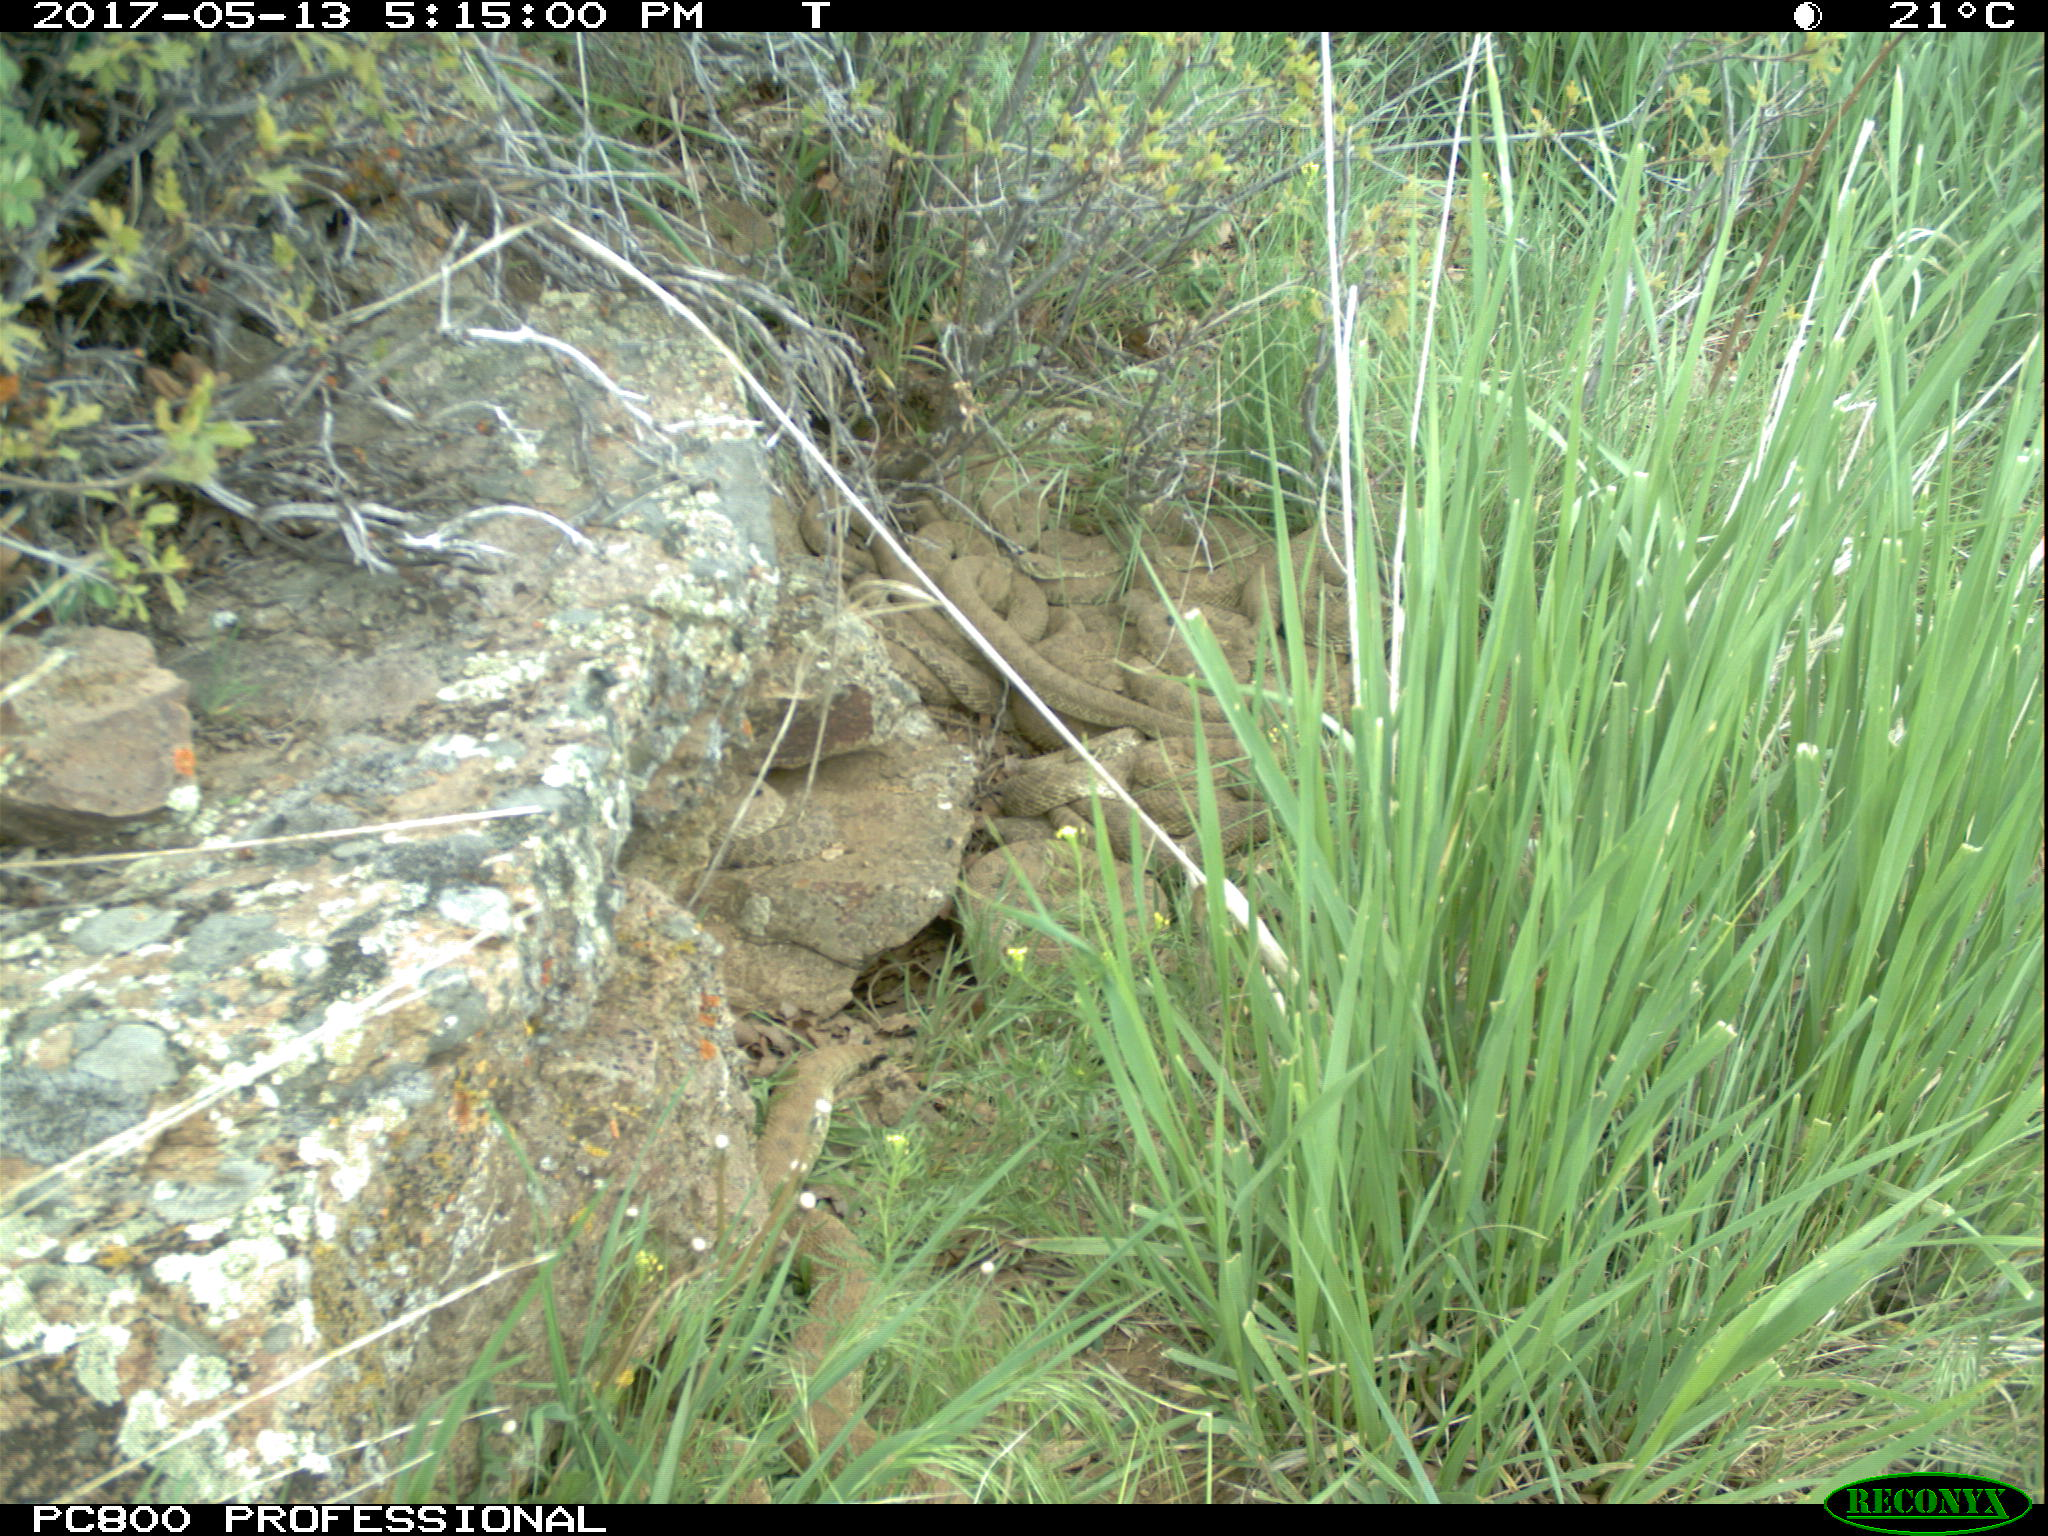snake: (947, 550, 1242, 737), (777, 1212, 887, 1483), (966, 841, 1184, 945), (901, 524, 1053, 657), (753, 1044, 876, 1205), (1095, 771, 1255, 862), (1127, 582, 1256, 694), (1256, 537, 1372, 652), (987, 736, 1129, 818), (698, 778, 827, 860), (1135, 736, 1226, 787), (800, 487, 863, 558)
